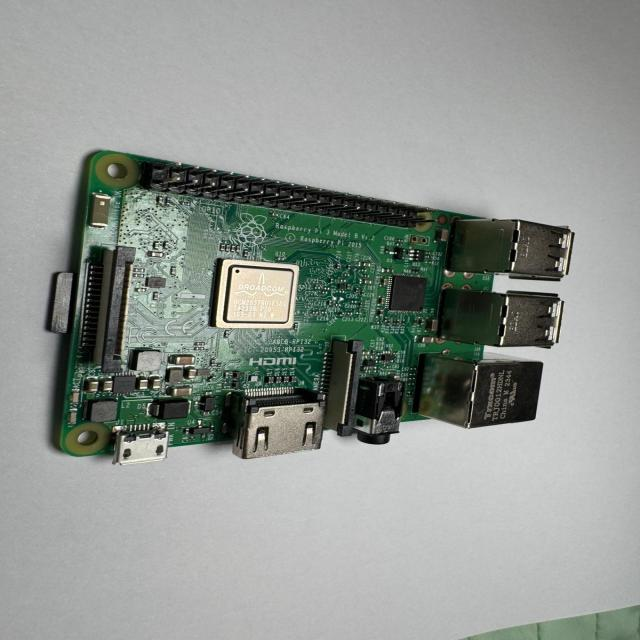CPU: (208, 256, 300, 333)
Ethernet: (414, 346, 541, 430)
GPIO: (139, 158, 422, 233)
HDMI: (228, 385, 330, 461)
RAM-3: (382, 270, 433, 312)
Raspberry: (45, 150, 574, 466)
